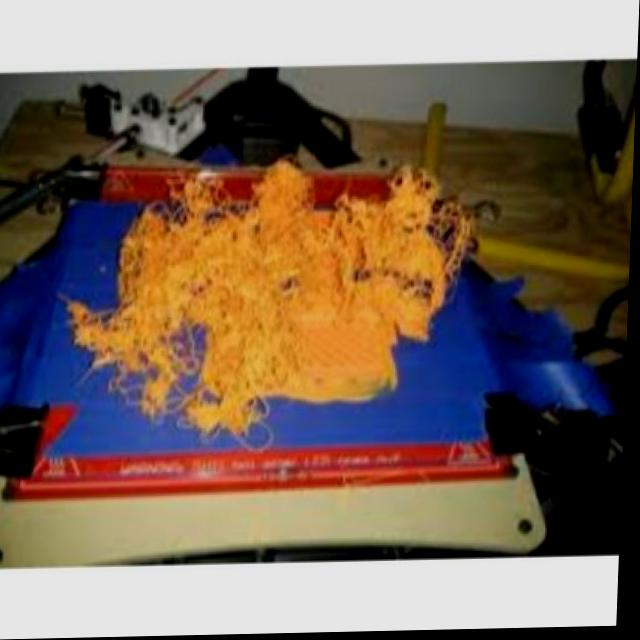spaghetti: (81, 177, 492, 426)
